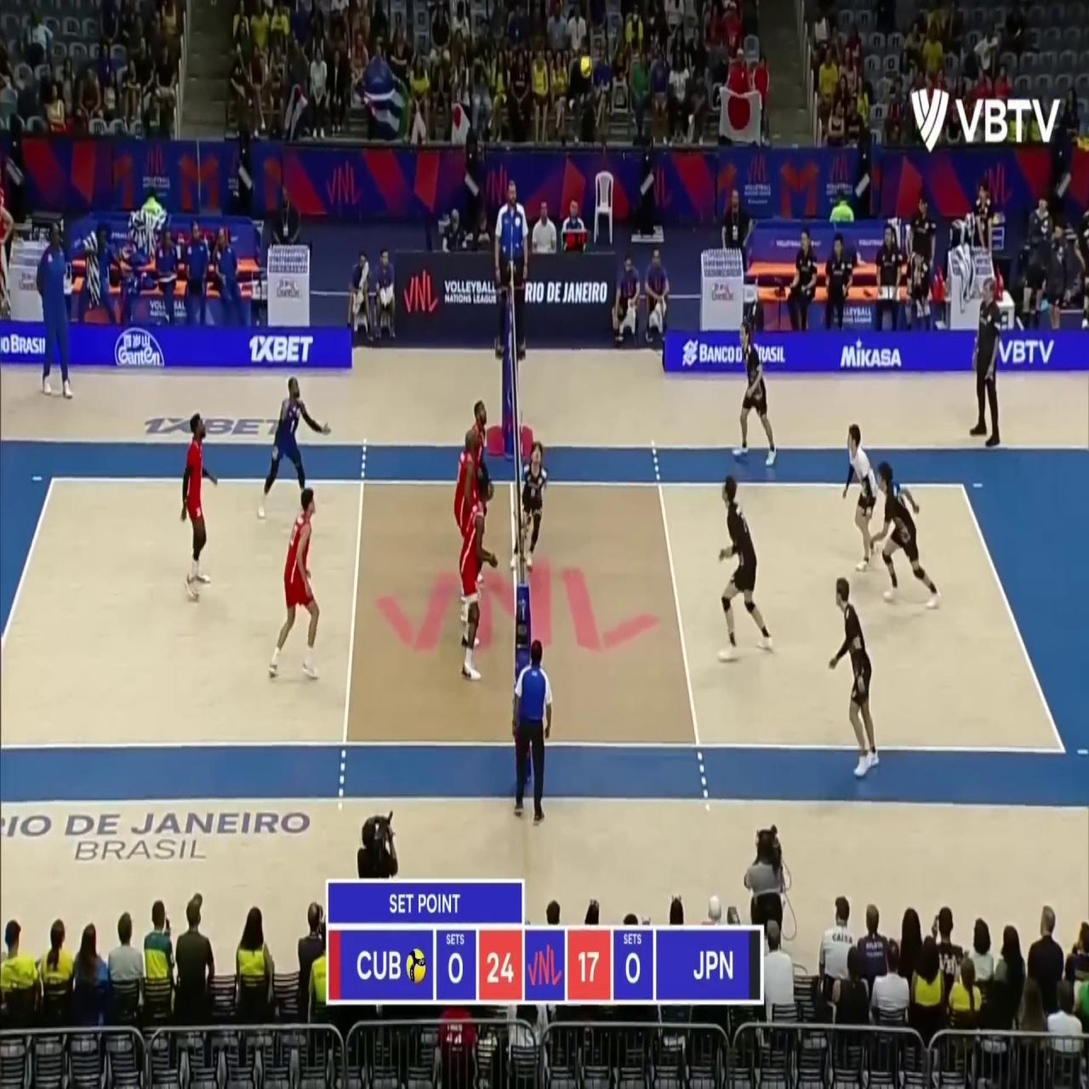ball: (581, 55, 593, 77)
